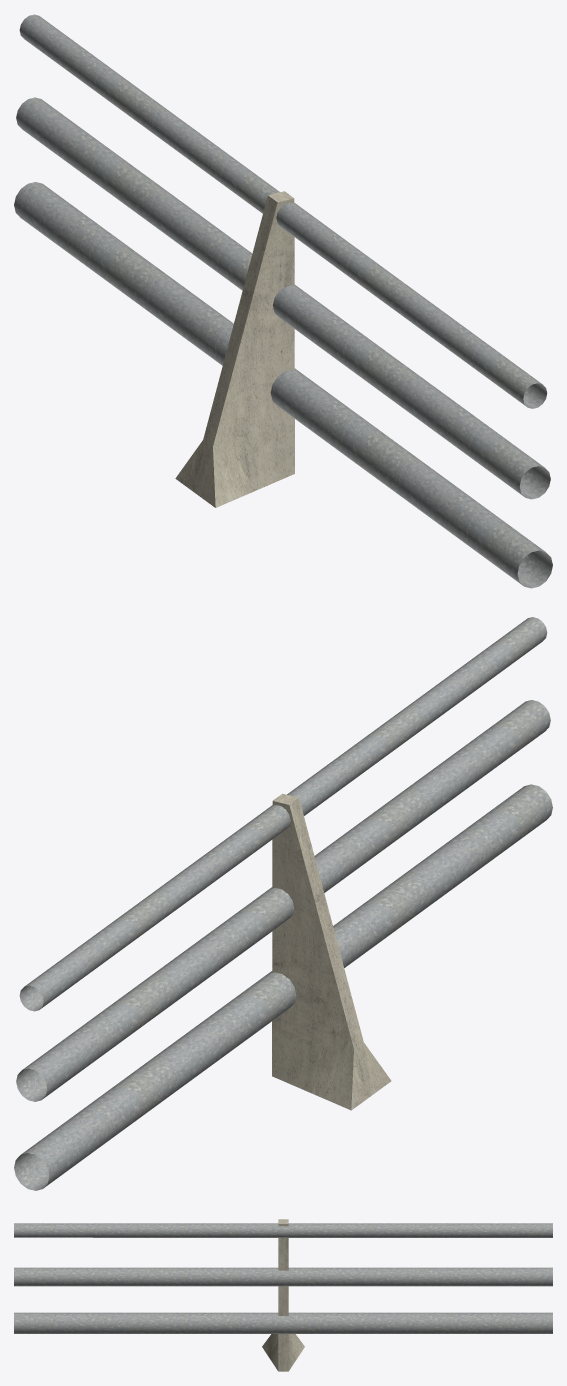
The model's file is GSDRailing4-Light1.FBX.
3 views of the same model, one above another, from view 1: azimuth 30°, elevation 25°; view 2: azimuth 150°, elevation 25°; view 3: azimuth 270°, elevation 25° (orthographic). The views are drawn at different scales.
Parts seen in each view (by area): view 1: GSDRailing4-Light; view 2: GSDRailing4-Light; view 3: GSDRailing4-Light.
Boxes of the visible parts, x1,y1,x2,y2 form: GSDRailing4-Light: (14, 14, 552, 588); GSDRailing4-Light: (14, 617, 552, 1190); GSDRailing4-Light: (14, 1219, 552, 1371).
Size of the model in its own units: 0.6061 by 1.51 by 5.
